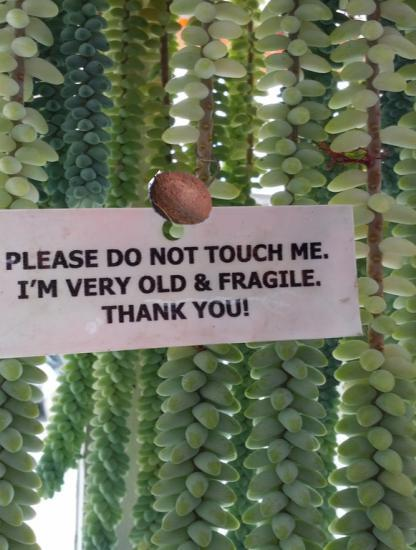Cocos: (147, 164, 215, 232)
